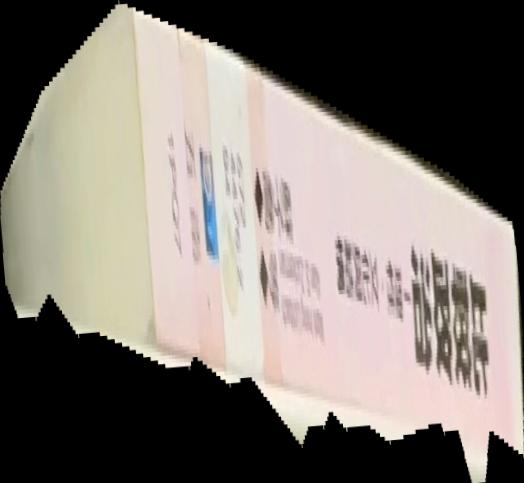flat: (1, 1, 524, 483)
